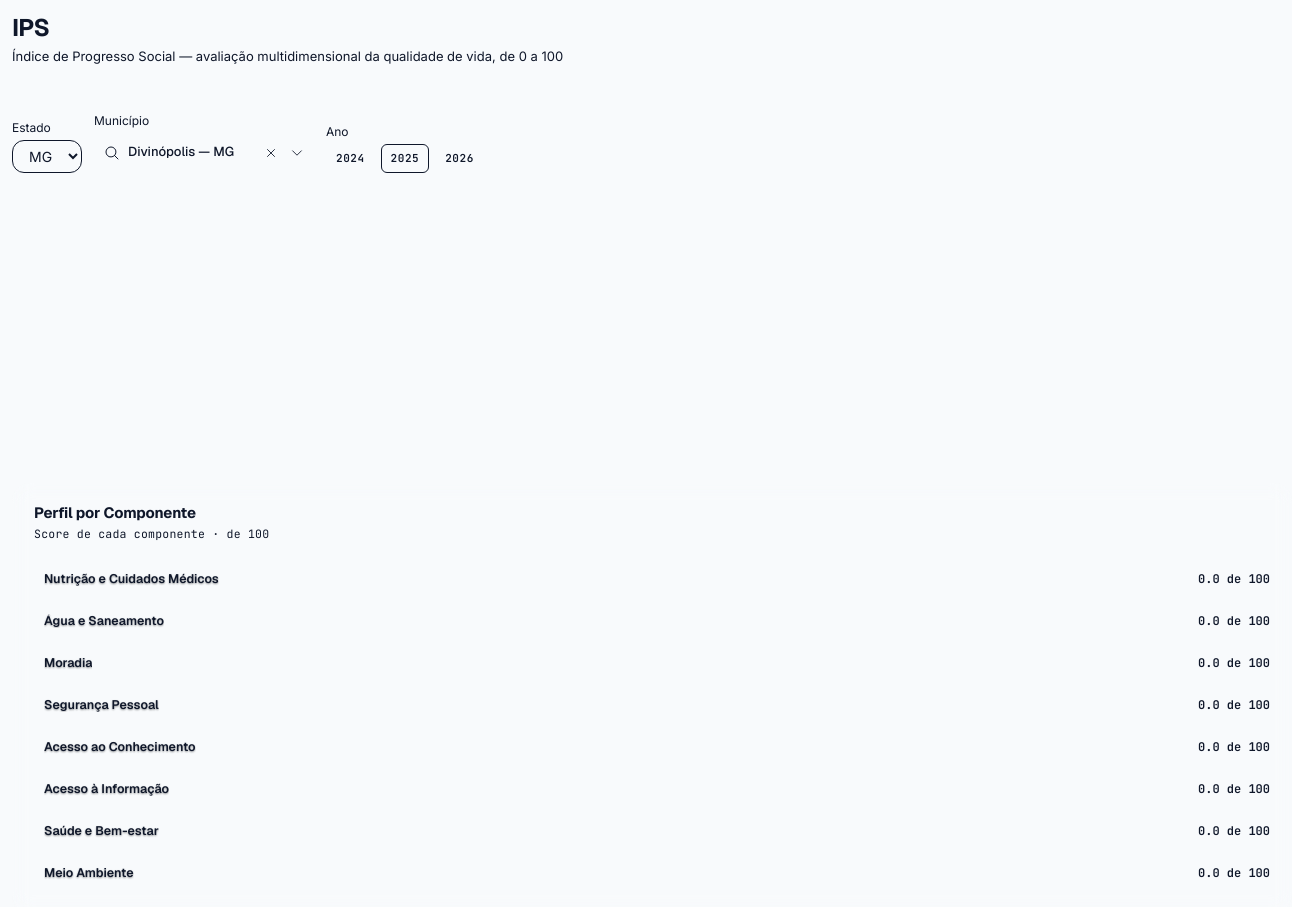
Scenario: IpsPage — anos com dados vêm do backend › voltar para 2025 restaura o município escolhido e os avisos somem
Click the button "2026" at (460, 158), box [435, 144, 484, 172]
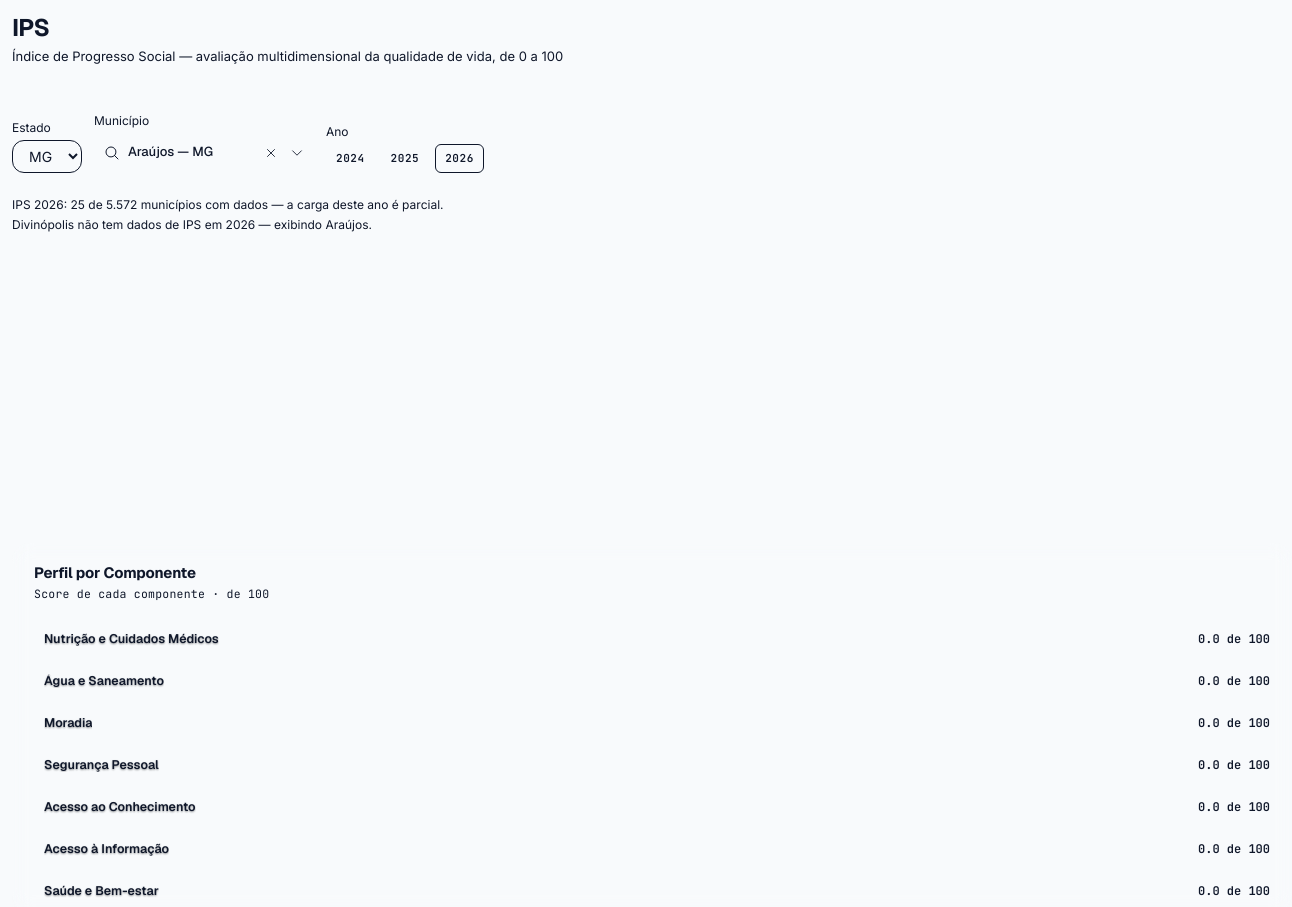
Click the button "2025" at (405, 158), box [381, 144, 429, 172]
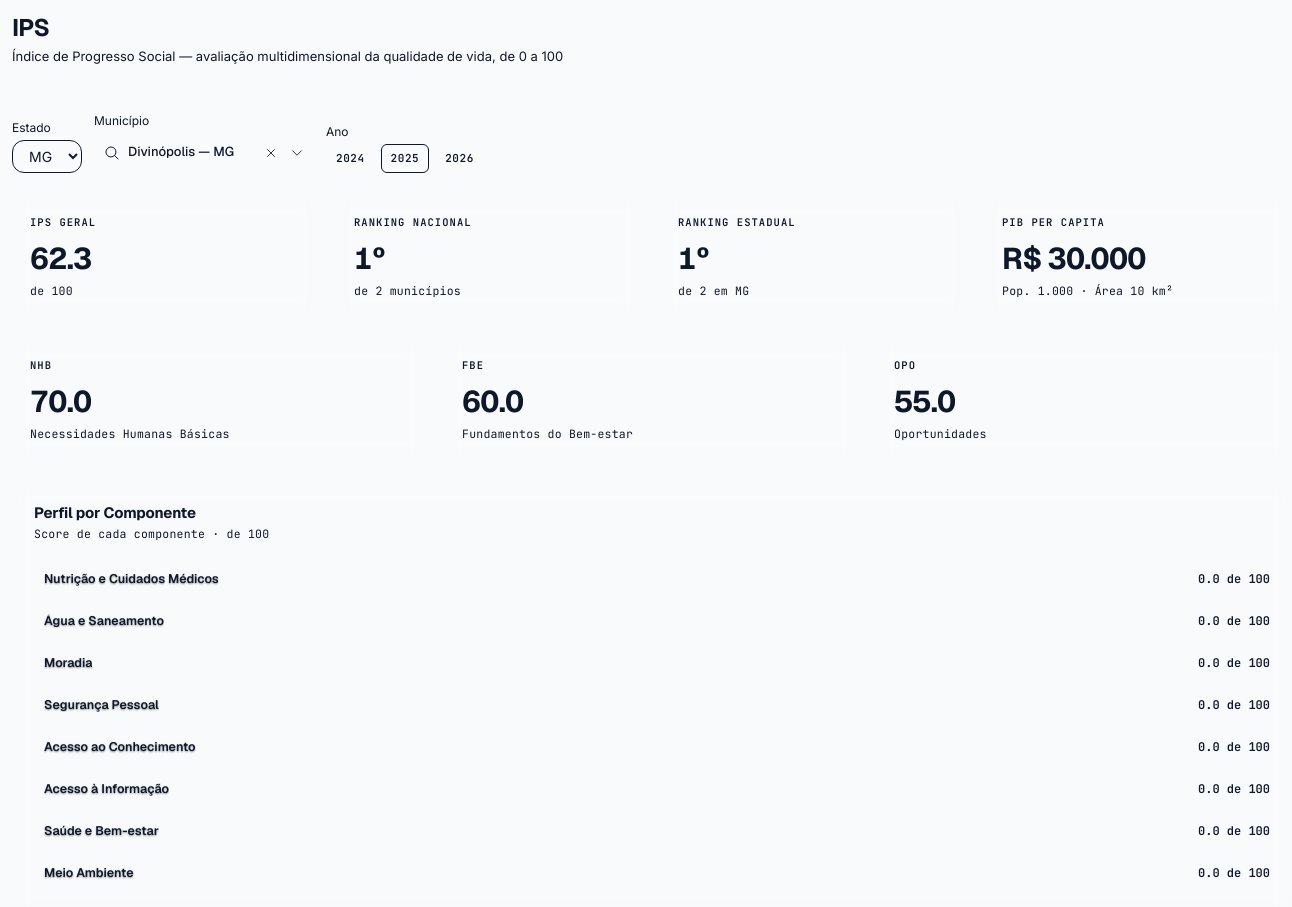
Check: the text "não tem dados de IPS" is gone
Check: the text "municípios com dados" is gone
